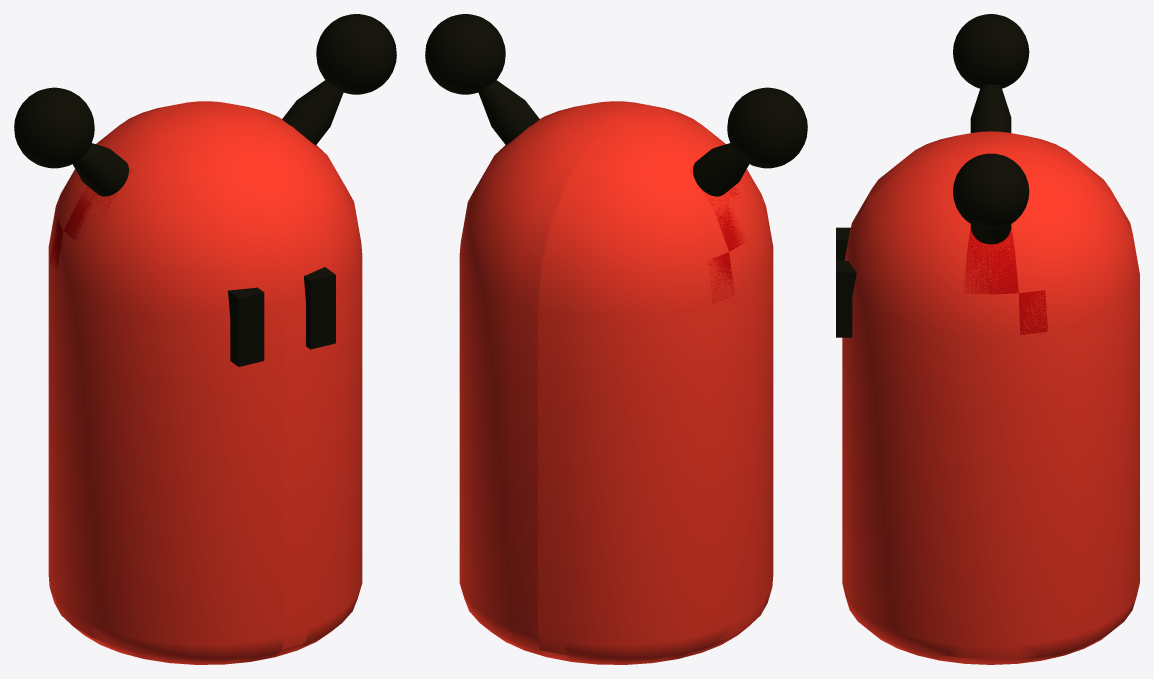
Rendered from virus1.fbx.
3 renders of one model, left to right at view 1: azimuth 30°, elevation 25°; view 2: azimuth 150°, elevation 25°; view 3: azimuth 270°, elevation 25°, orthographic. The views are drawn at different scales.
Parts seen in each view (by area): view 1: Virus1; view 2: Virus1; view 3: Virus1.
Part boxes in pixels (x1,y1,x2,y2): Virus1: (14, 14, 396, 664); Virus1: (425, 14, 807, 664); Virus1: (836, 14, 1139, 664).
Bounding box in the file's own units: 273 × 390 × 204.
